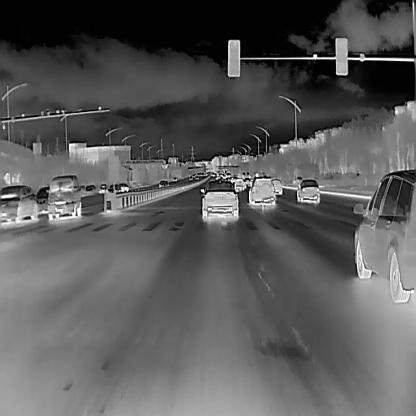car: (352, 169, 415, 301), (45, 174, 81, 220), (199, 180, 239, 221), (0, 184, 38, 224), (247, 177, 277, 208), (296, 177, 320, 203), (33, 184, 51, 203), (79, 182, 97, 197), (270, 176, 283, 195), (108, 182, 120, 195), (117, 181, 129, 193), (233, 180, 244, 192), (291, 175, 304, 185), (157, 178, 168, 189), (98, 182, 107, 193), (171, 176, 177, 181), (188, 176, 193, 180), (195, 175, 198, 179)
crosswalk: (86, 212, 362, 243)
